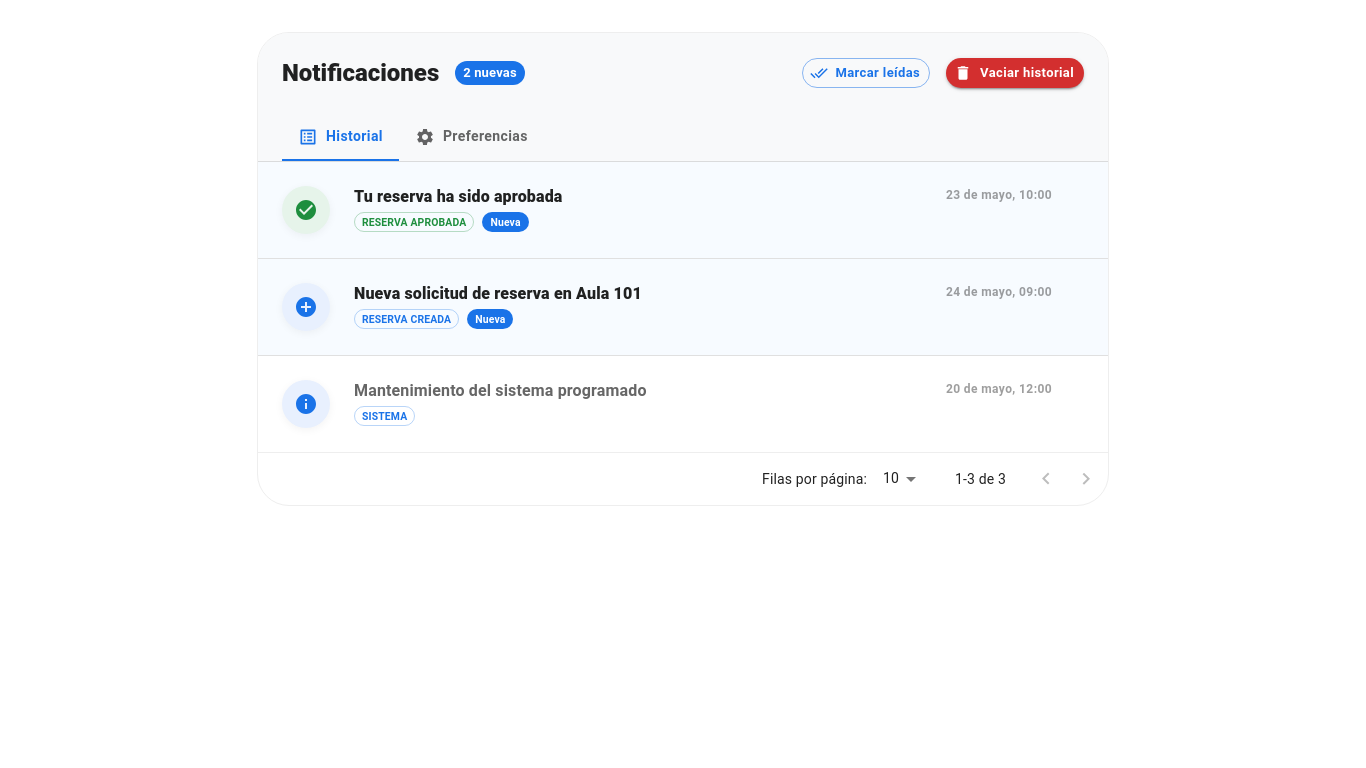
Scenario: NotificationCenter › debe permitir abrir la confirmación de vaciado
Click the button "Vaciar historial": point(1015, 73) [946,58,1084,88]
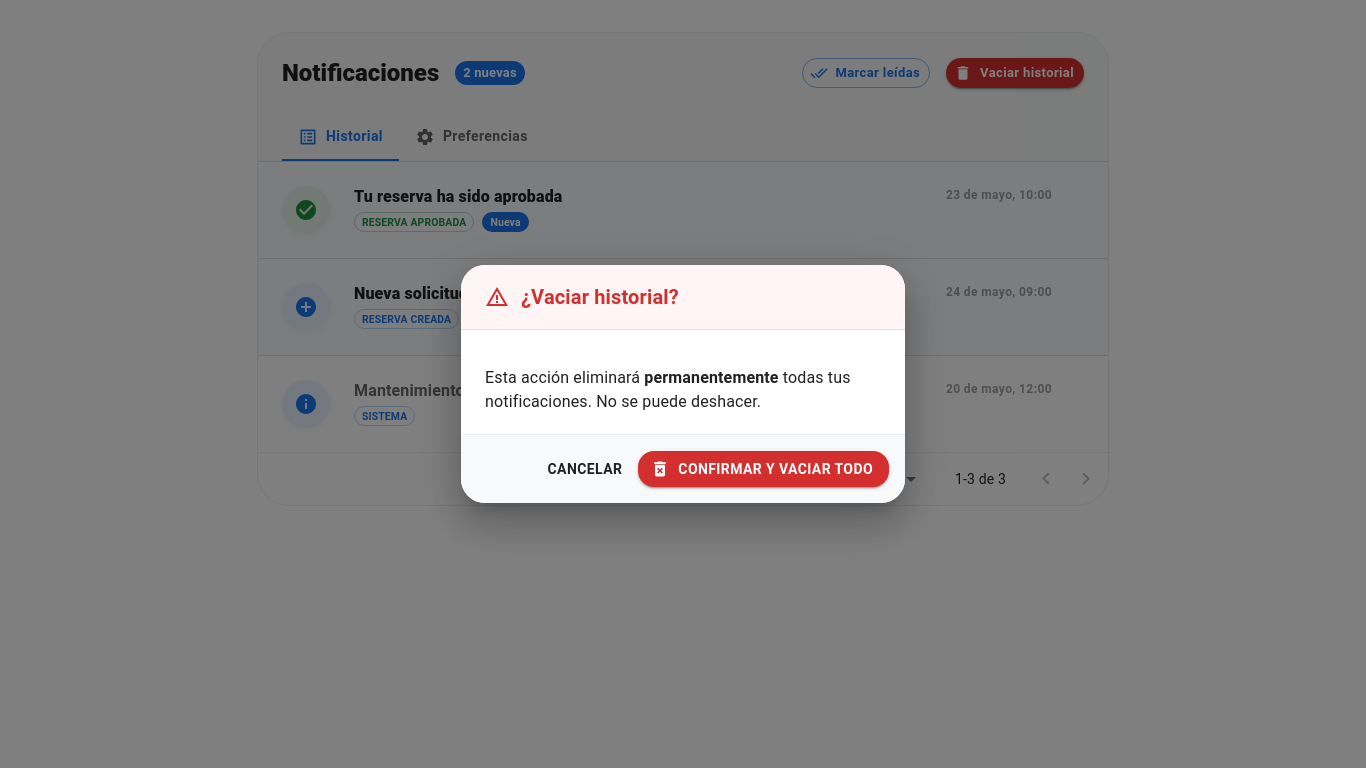
Now the heading "¿Vaciar historial?" is shown, box [461,265,905,329]
Now the text "Esta acción eliminará" is shown, box [485,368,644,387]
Now the text "todas tus notificaciones" is shown, box [485,368,851,411]
